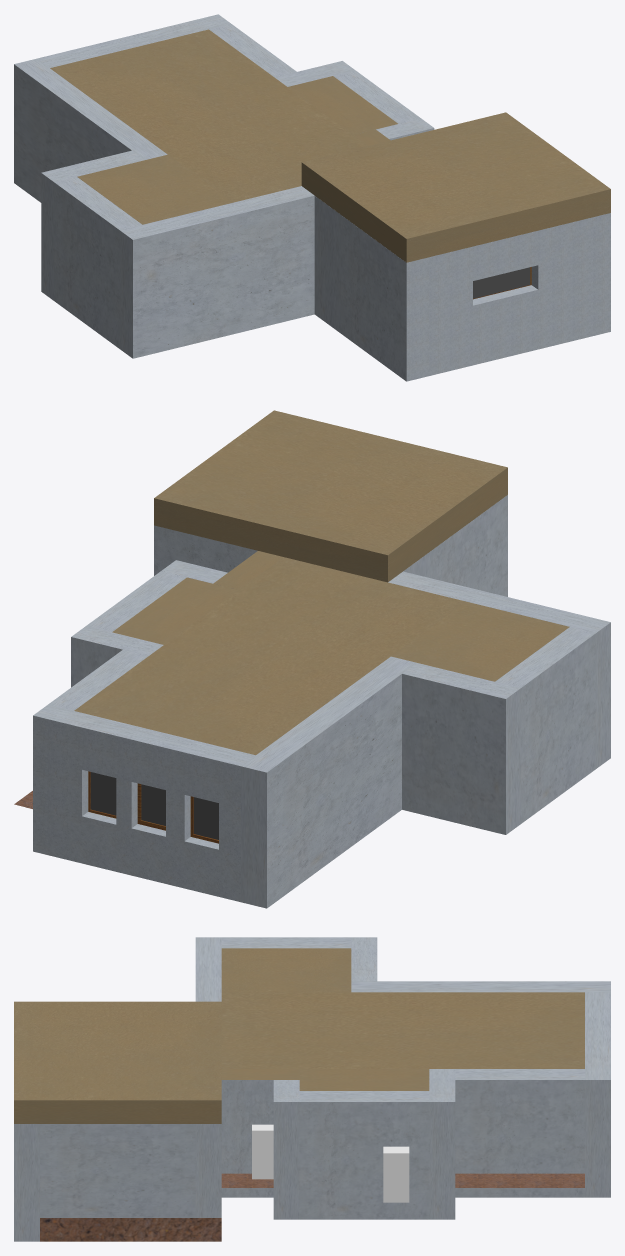
The model's file is home.glb.
3 renders of one model, top to bottom at view 1: azimuth 30°, elevation 25°; view 2: azimuth 150°, elevation 25°; view 3: azimuth 270°, elevation 25°, orthographic. The views are drawn at different scales.
Parts seen in each view (by area): view 1: Rest, Roof, Glass2; view 2: Rest, Roof, Glass, Sill; view 3: Rest, Roof, Floor, CTRL_Hole.002, CTRL_Hole.001.
Part boxes in pixels (x1,y1,x2,y2): Rest: [14, 14, 610, 381]; Roof: [50, 29, 610, 262]; Glass2: [473, 267, 530, 298]; Rest: [33, 495, 610, 908]; Roof: [74, 410, 569, 755]; Glass: [90, 772, 218, 839]; Sill: [88, 771, 218, 843]; Rest: [14, 937, 610, 1241]; Roof: [14, 948, 584, 1123]; Floor: [40, 1173, 584, 1241]; CTRL_Hole.002: [383, 1146, 409, 1202]; CTRL_Hole.001: [252, 1124, 273, 1179].
Size of the model in its own units: 17 by 6 by 23.
10 materials, 6 textured.
